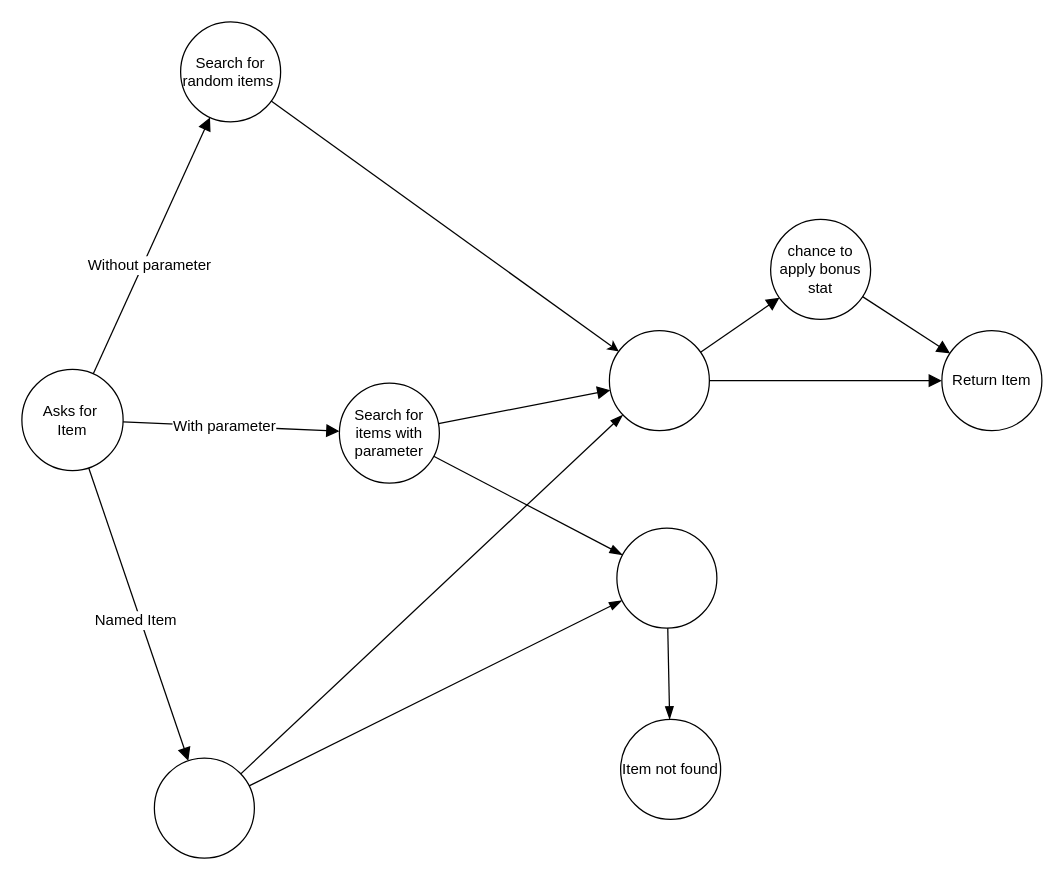
Image size: 1064x880. Some labels were removed from this diagram. The box of each missing label's shape, as (x1, y1, x2, y2) in pixels:
Did not find an acceptable item: (616, 527, 717, 628)
Found an acceptable item: (608, 329, 709, 431)
Search for the item: (153, 757, 254, 858)
